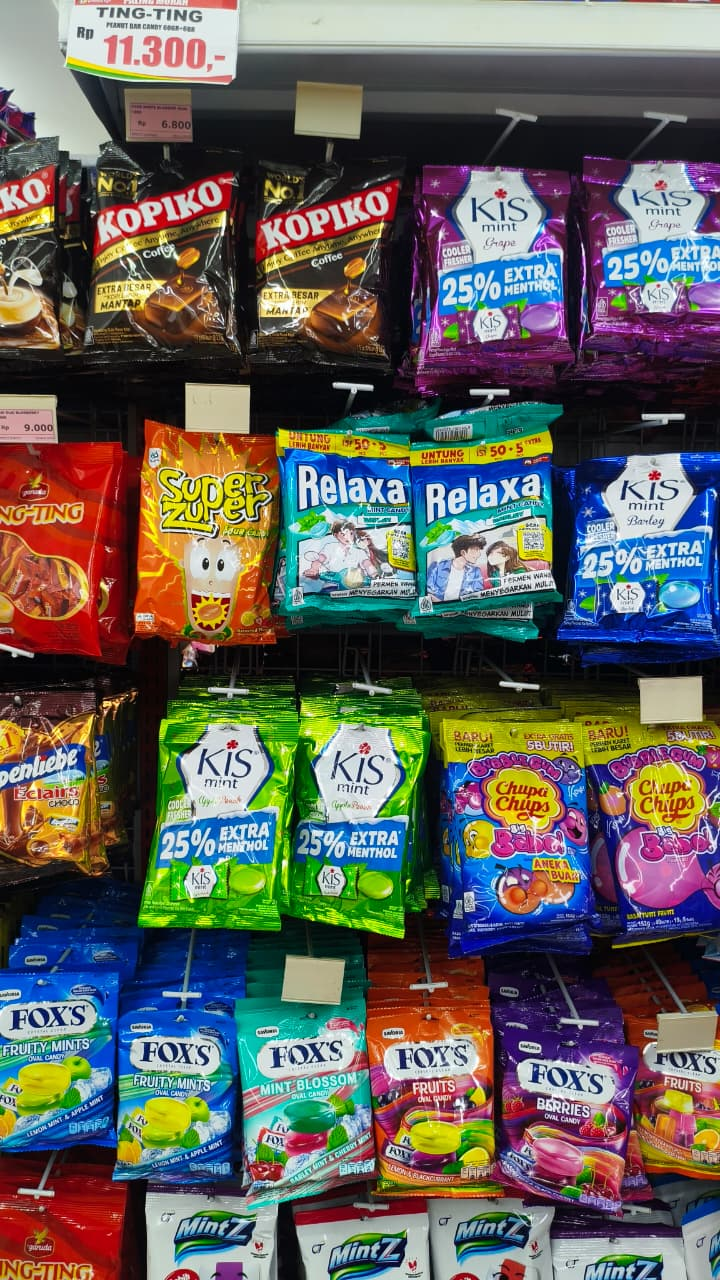foxs: (511, 1035, 626, 1174), (3, 988, 106, 1134), (379, 1023, 489, 1158), (253, 1028, 367, 1151), (125, 1024, 225, 1160)
kis: (301, 728, 414, 858), (170, 724, 281, 854), (435, 164, 563, 249), (589, 447, 717, 532)
kopiko: (90, 168, 245, 262), (247, 170, 402, 264)
relaxa: (419, 454, 546, 595), (285, 446, 412, 585)
super zuper: (146, 450, 285, 553)
